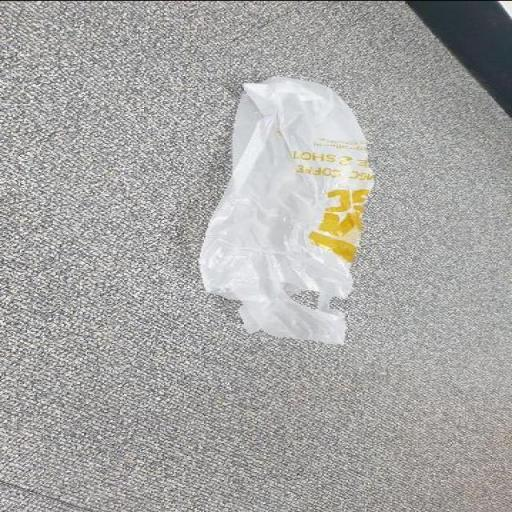plastic-bag: (195, 76, 379, 346)
